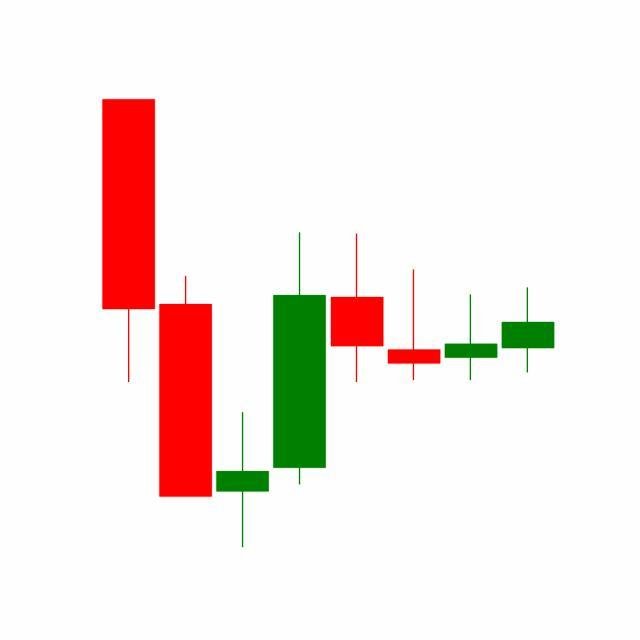Upside-Downside Gap Three Methods: (328, 232, 500, 385)
